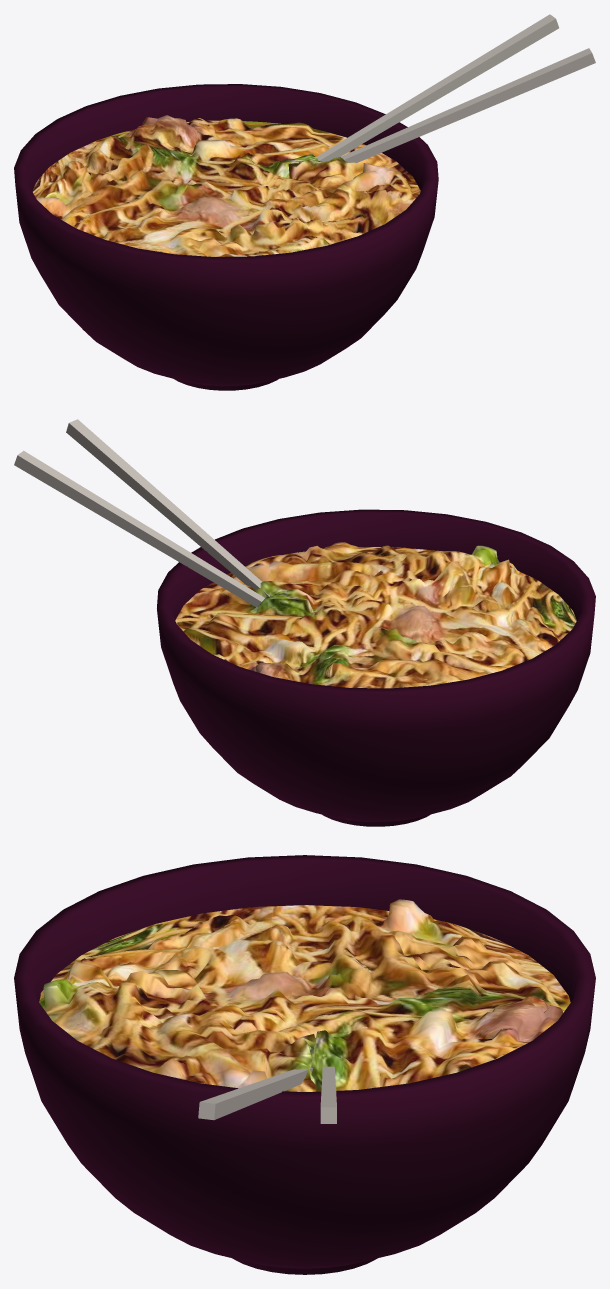
Rendered from item_1751815442845.glb.
3 views of the same model, one above another, from view 1: azimuth 30°, elevation 25°; view 2: azimuth 150°, elevation 25°; view 3: azimuth 270°, elevation 25° (orthographic). The views are drawn at different scales.
Visible parts, largest first — view 1: Sphere, Plane, Cube, Cube.001; view 2: Sphere, Plane, Cube, Cube.001; view 3: Sphere, Plane, Cube.001, Cube.
Part boxes in pixels (x1,y1,x2,y2): Sphere: (14, 84, 438, 390); Plane: (32, 115, 420, 256); Cube: (316, 14, 558, 161); Cube.001: (340, 48, 595, 163); Sphere: (157, 509, 595, 826); Plane: (175, 542, 576, 688); Cube: (14, 450, 264, 607); Cube.001: (66, 419, 269, 597); Sphere: (14, 855, 595, 1274); Plane: (39, 899, 570, 1091); Cube.001: (198, 1068, 312, 1120); Cube: (320, 1066, 336, 1123).
Size of the model in its own units: 2.84 by 1.34 by 2.
Materials: 4 (1 with a texture image).
